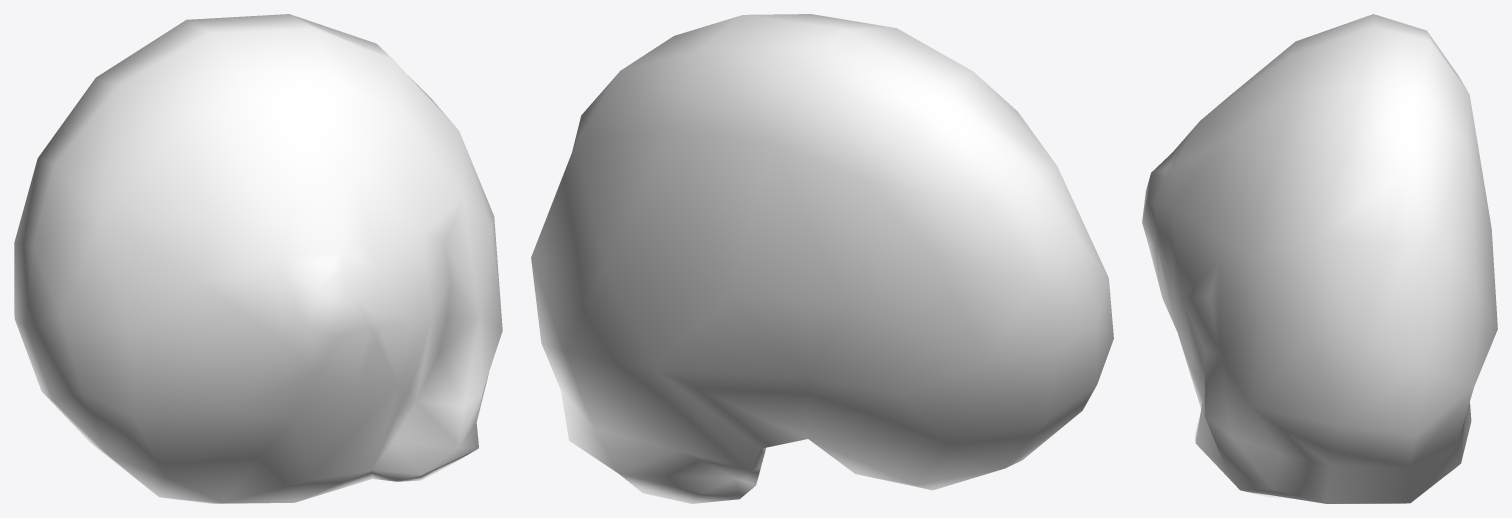
File: shell.glb
The picture shows the model from 3 angles, left to right: view 1: azimuth 30°, elevation 25°; view 2: azimuth 150°, elevation 25°; view 3: azimuth 270°, elevation 25°; orthographic projection. The views are drawn at different scales.
Parts seen in each view (by area): view 1: Shell; view 2: Shell; view 3: Shell.
Boxes of the visible parts, x1,y1,x2,y2 form: Shell: [14, 14, 502, 503]; Shell: [531, 14, 1113, 503]; Shell: [1142, 14, 1497, 503].
Size of the model in its own units: 0.2112 by 0.182 by 0.1524.
2 materials, 1 textured.
